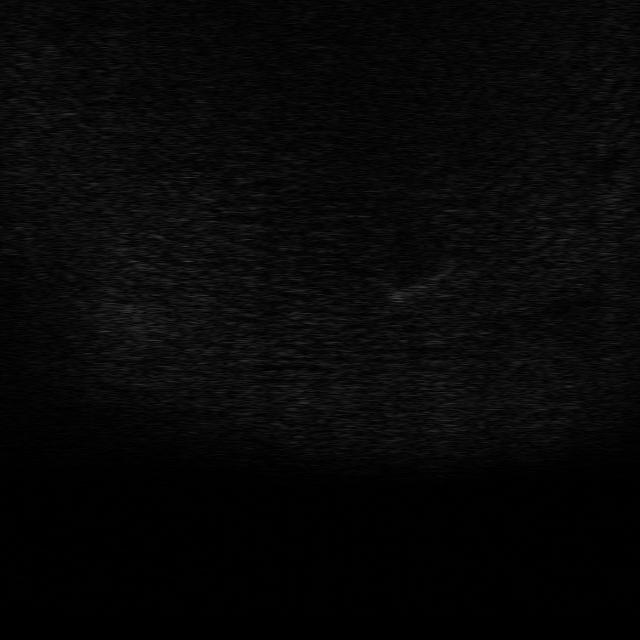plane: (366, 266, 452, 304)
